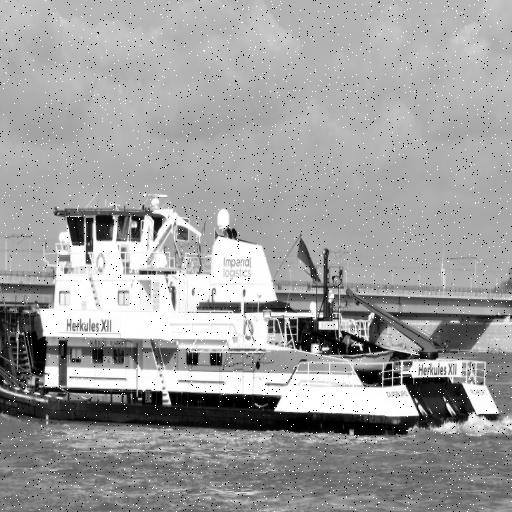tugboat: (1, 189, 505, 448)
